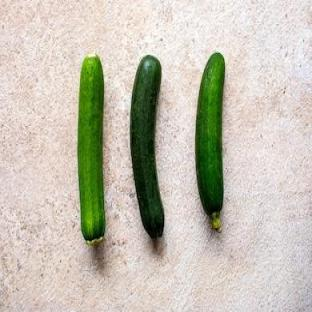Zucchini: (131, 56, 163, 238), (78, 56, 105, 244), (196, 53, 224, 231)
